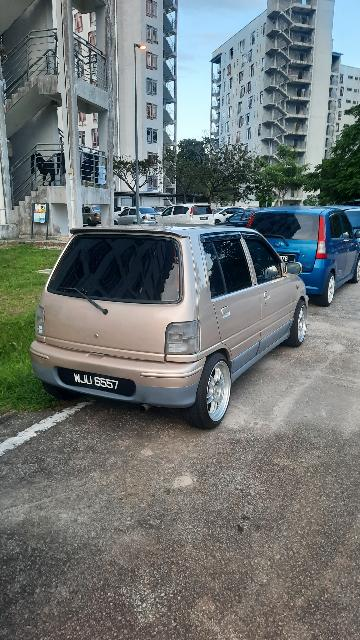License_Plate: (53, 364, 144, 400)
car: (27, 221, 319, 428)
